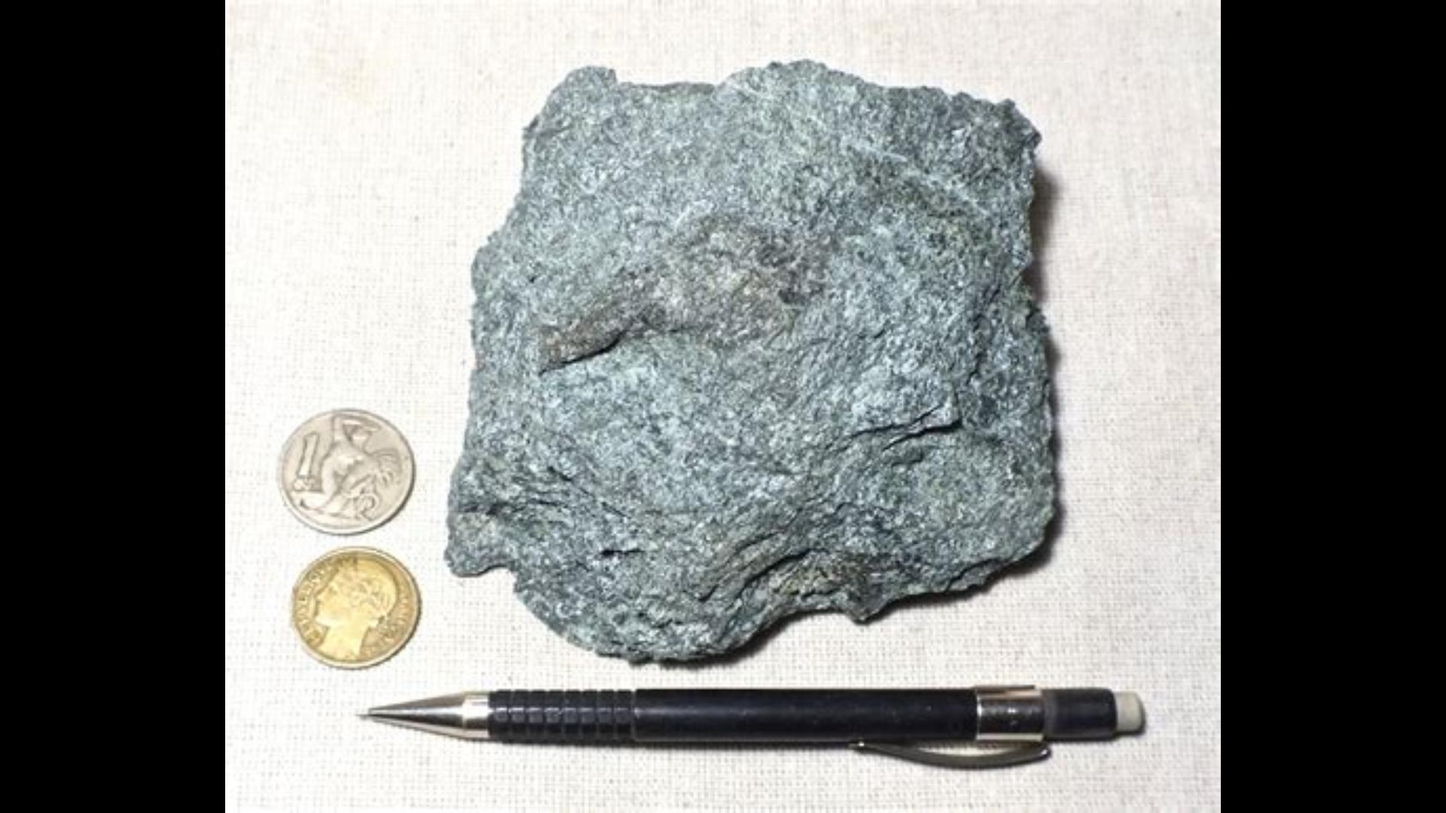rock: (450, 61, 1053, 658)
